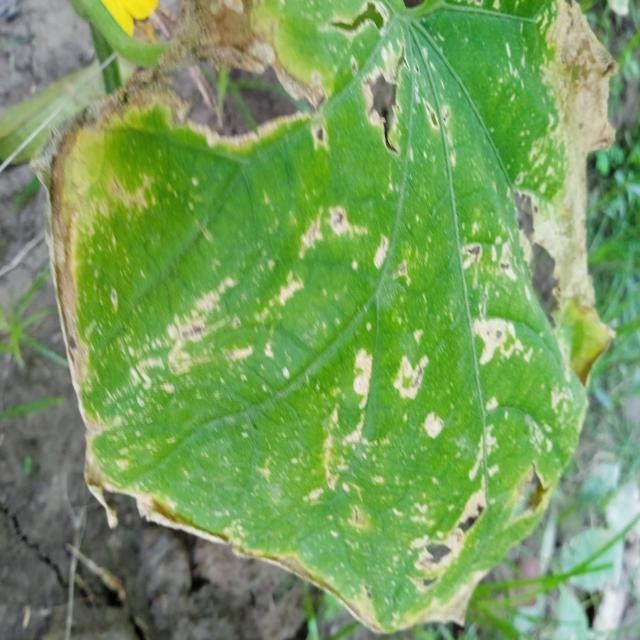cucumber_gummy: (39, 0, 618, 640)
